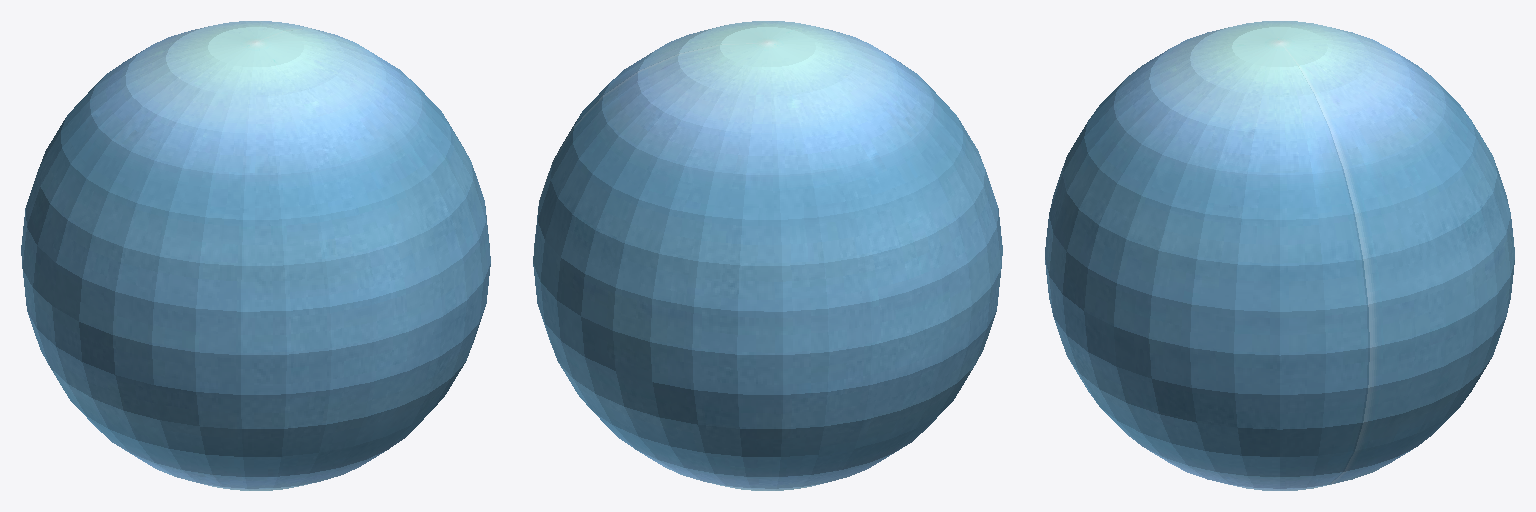
3 views of the same model, side by side, from view 1: azimuth 30°, elevation 25°; view 2: azimuth 150°, elevation 25°; view 3: azimuth 270°, elevation 25° (orthographic).
Visible parts, largest first — view 1: Sphere; view 2: Sphere; view 3: Sphere.
Part boxes in pixels (bbox=[...]): Sphere: bbox=[21, 21, 490, 490]; Sphere: bbox=[533, 21, 1002, 490]; Sphere: bbox=[1045, 21, 1514, 490].
Size of the model in its own units: 200 by 200 by 200.
Materials: 1 (1 with a texture image).